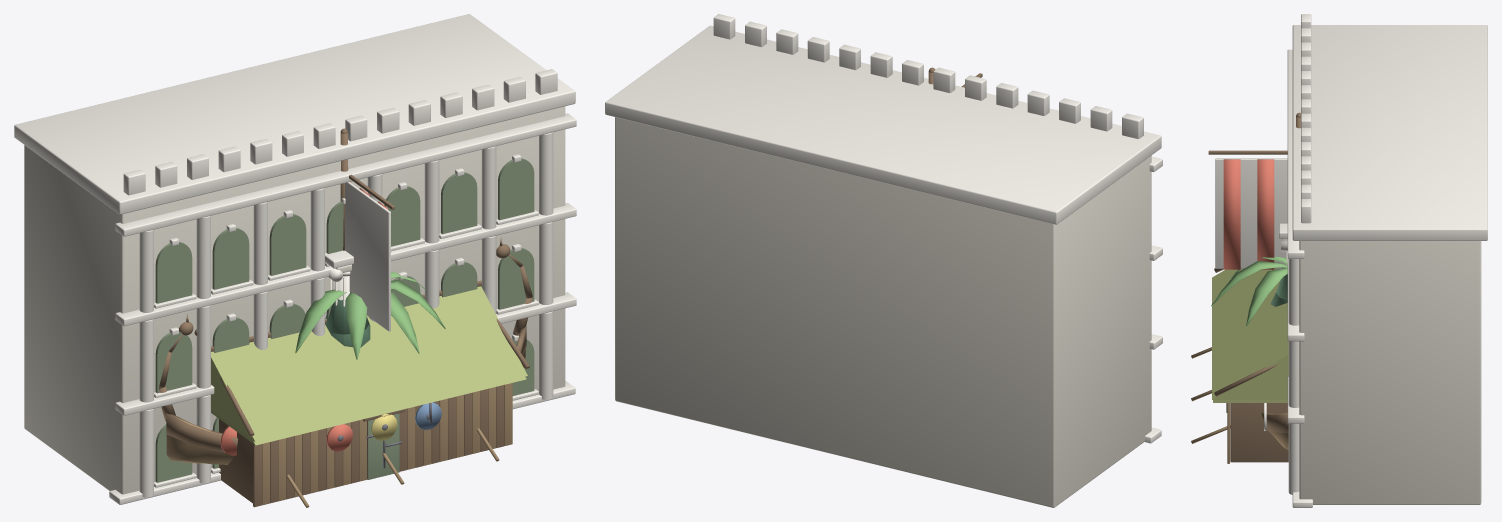
File: anc.glb
3 renders of one model, left to right at view 1: azimuth 30°, elevation 25°; view 2: azimuth 150°, elevation 25°; view 3: azimuth 270°, elevation 25°, orthographic. The views are drawn at different scales.
Visible parts, largest first — view 1: colosseum, longhouse, longship, palm, pine, column; view 2: colosseum; view 3: colosseum, longhouse, longship, palm, pine.
Boxes of the visible parts, left/top/right/bottom form: colosseum: left=14, top=14, right=576, bottom=504; longhouse: left=194, top=280, right=529, bottom=507; longship: left=159, top=128, right=532, bottom=507; palm: left=295, top=272, right=445, bottom=359; pine: left=325, top=299, right=370, bottom=347; column: left=325, top=250, right=353, bottom=306; colosseum: left=605, top=14, right=1162, bottom=507; colosseum: left=1287, top=14, right=1487, bottom=507; longhouse: left=1212, top=268, right=1288, bottom=463; longship: left=1191, top=112, right=1301, bottom=449; palm: left=1211, top=257, right=1287, bottom=326; pine: left=1270, top=274, right=1287, bottom=306.
Bounding box in the file's own units: 14.4 × 9.92 × 8.82.
